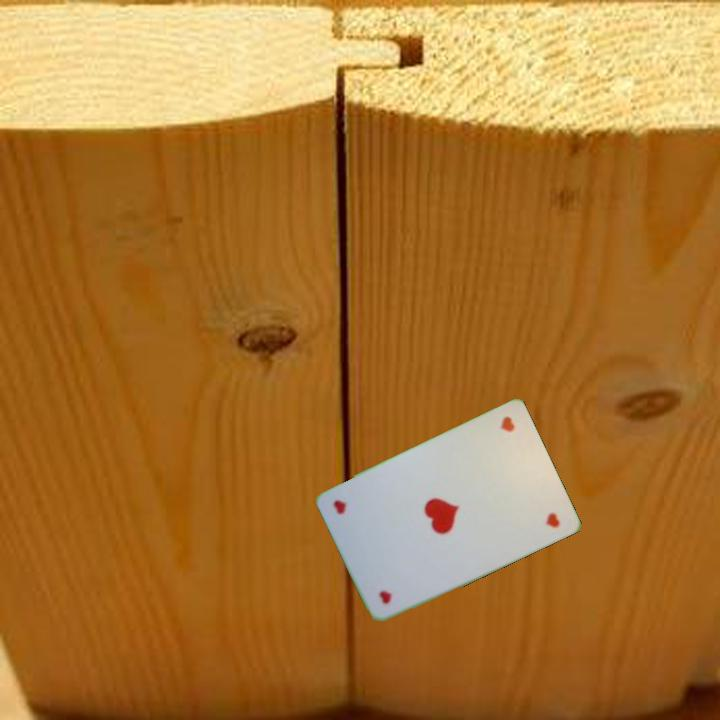h_a.png: (352, 530, 431, 614), (464, 409, 543, 493)
